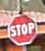stop: (5, 12, 38, 46)
